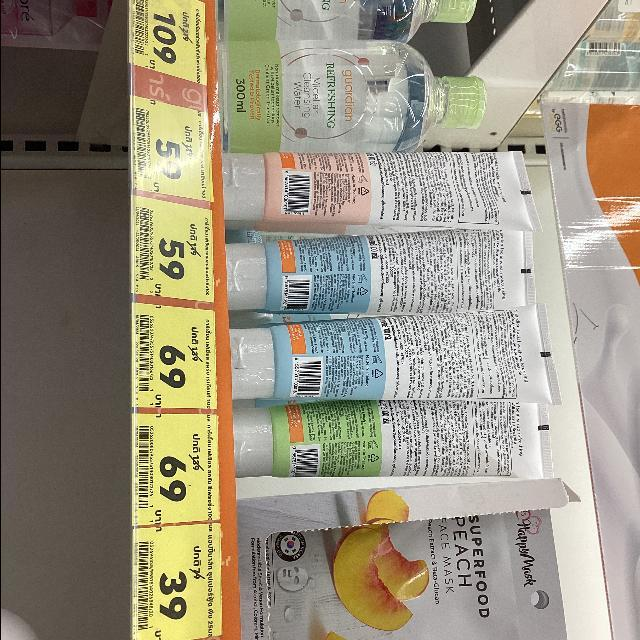Squeeze Tube: (178, 106, 585, 536)
